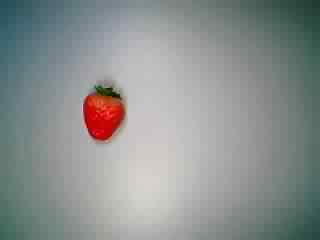strawberry: (77, 77, 135, 143)
